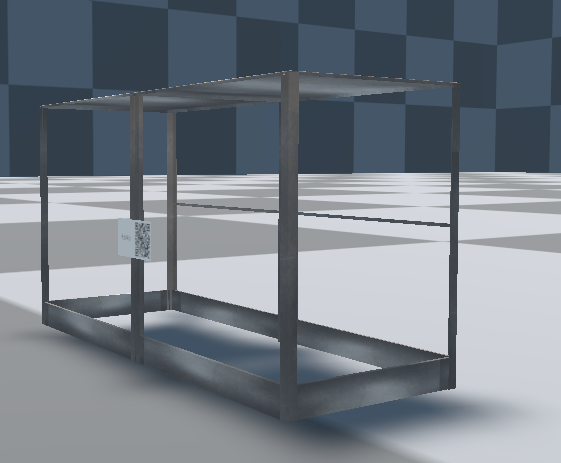Rack: (35, 67, 462, 426)
